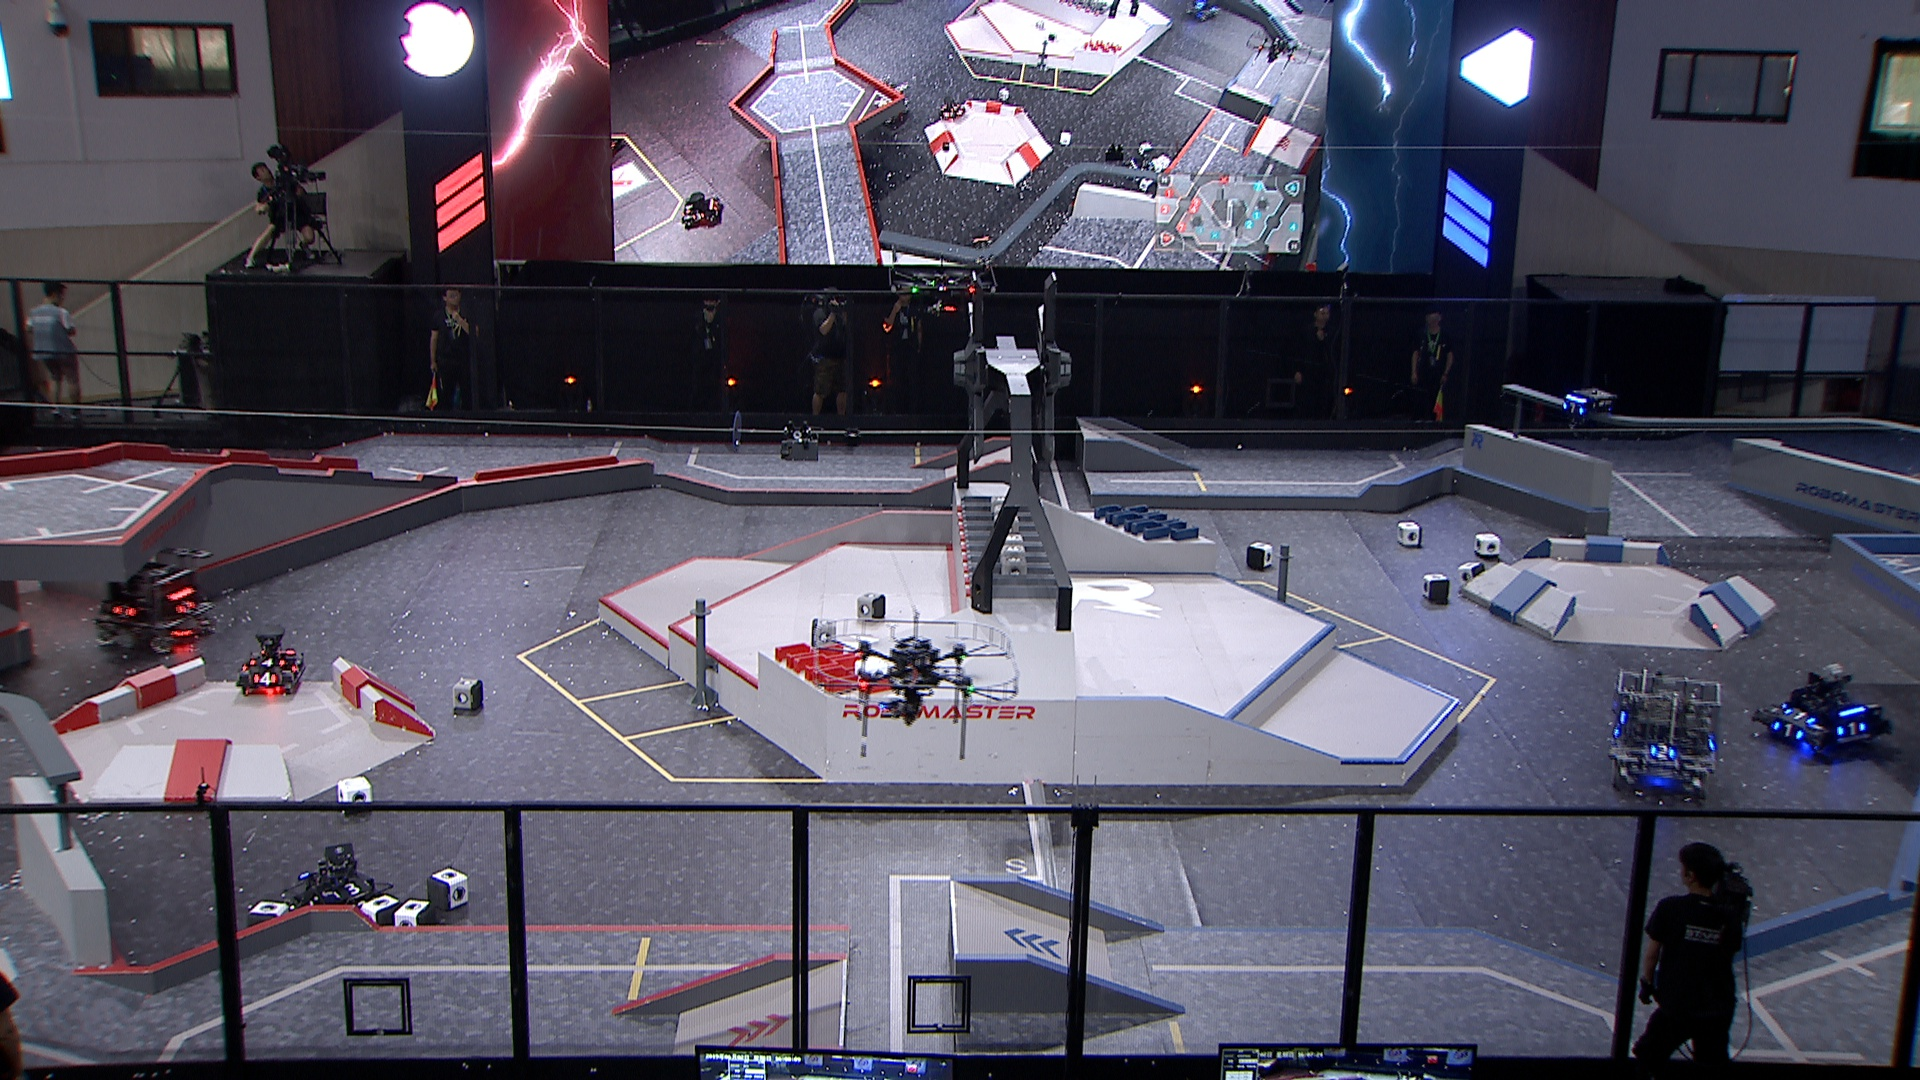armor: (338, 878, 371, 901), (1776, 717, 1804, 738), (1836, 723, 1869, 738), (1647, 741, 1675, 760), (1788, 704, 1813, 723), (111, 603, 136, 618), (177, 597, 196, 615), (1561, 401, 1582, 417), (253, 671, 276, 684), (251, 657, 282, 666), (289, 657, 301, 674)
car: (1604, 669, 1716, 806), (88, 538, 218, 655), (1753, 659, 1888, 756), (295, 839, 386, 922), (233, 624, 305, 698)
ignore: (676, 189, 721, 229), (968, 233, 1001, 266), (936, 91, 967, 119), (1187, 0, 1218, 25)
watcher: (1557, 380, 1617, 447)
